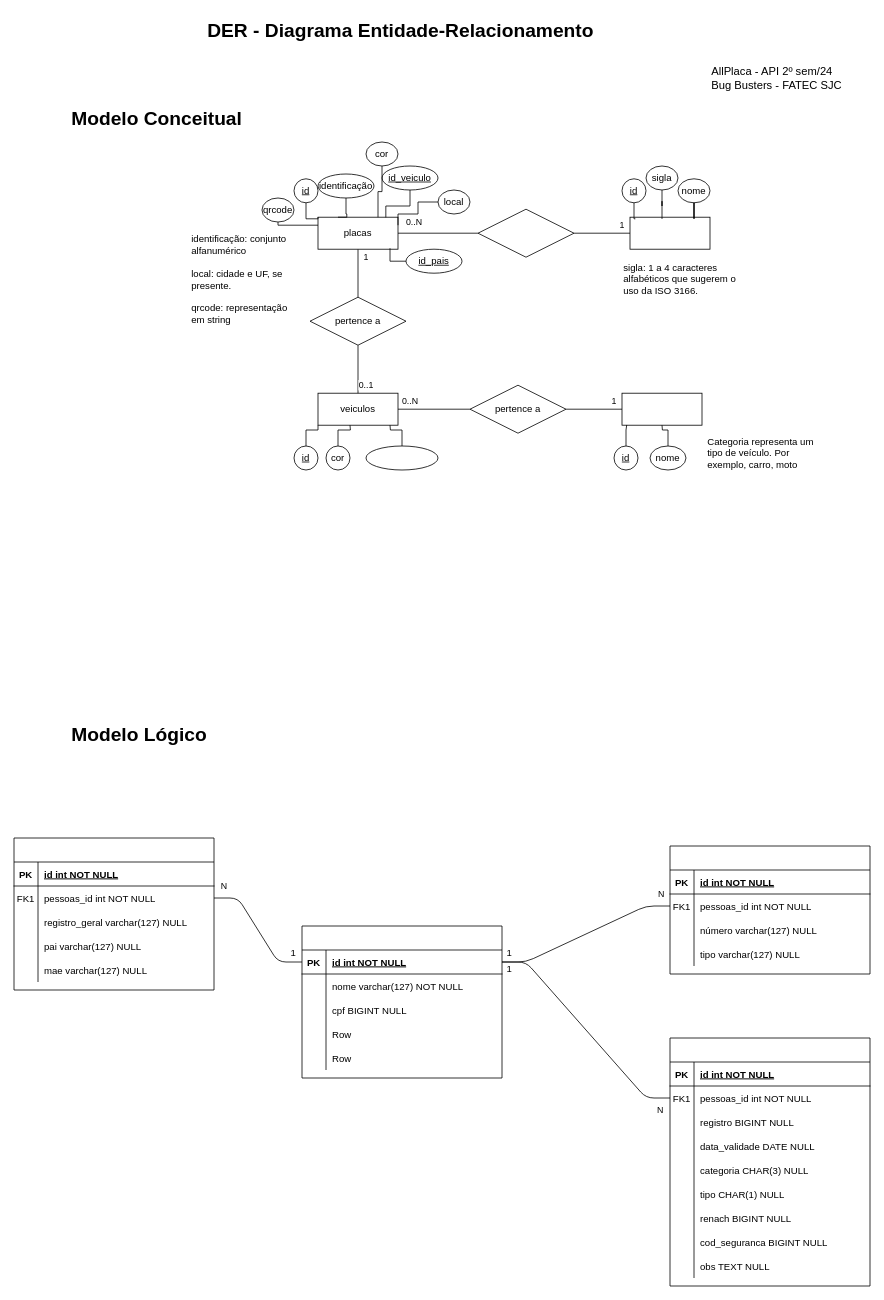
This 884x1300 diagram has some shape labels left out. The shapes that lost their labels are listed below. From the top down, each one's box as (x1, y1, x2, y2) in pixels, then its label:
(477, 208, 574, 257): registrada em
(629, 216, 710, 249): paises
(621, 392, 702, 425): categorias
(365, 445, 438, 470): id_categoria
(13, 837, 214, 990): rgs
(669, 845, 870, 974): passaportes
(301, 925, 502, 1078): pessoas
(669, 1037, 870, 1286): cnhs
